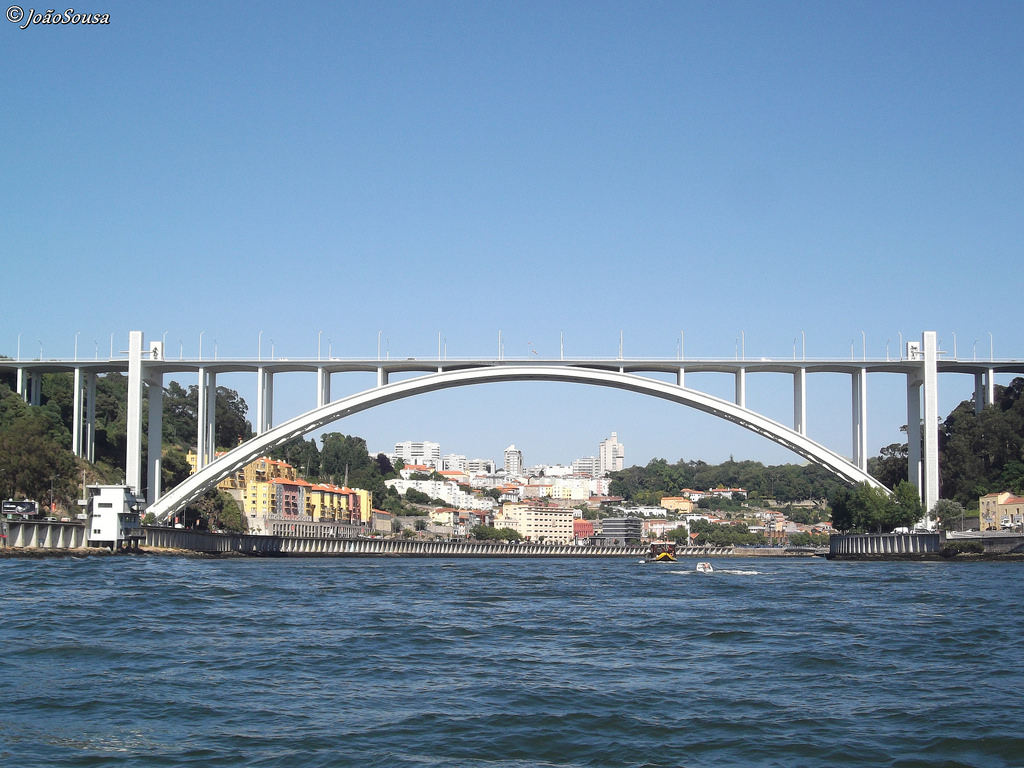arrabida: (0, 329, 1023, 535)
